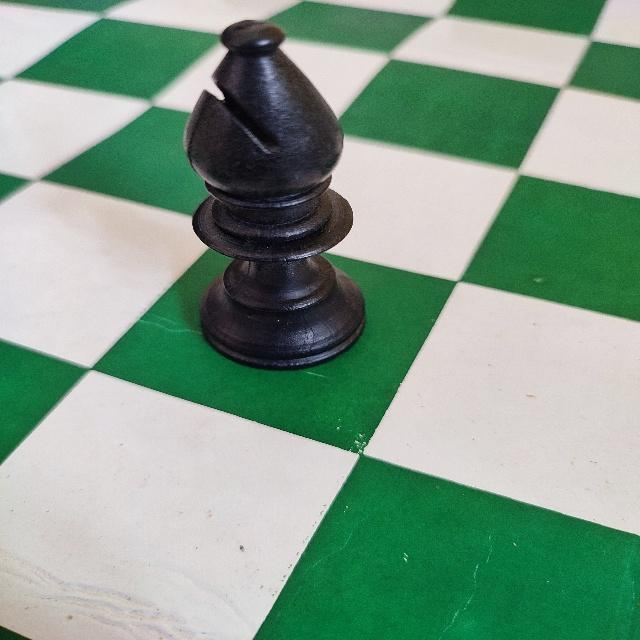Bishop: (178, 14, 370, 374)
